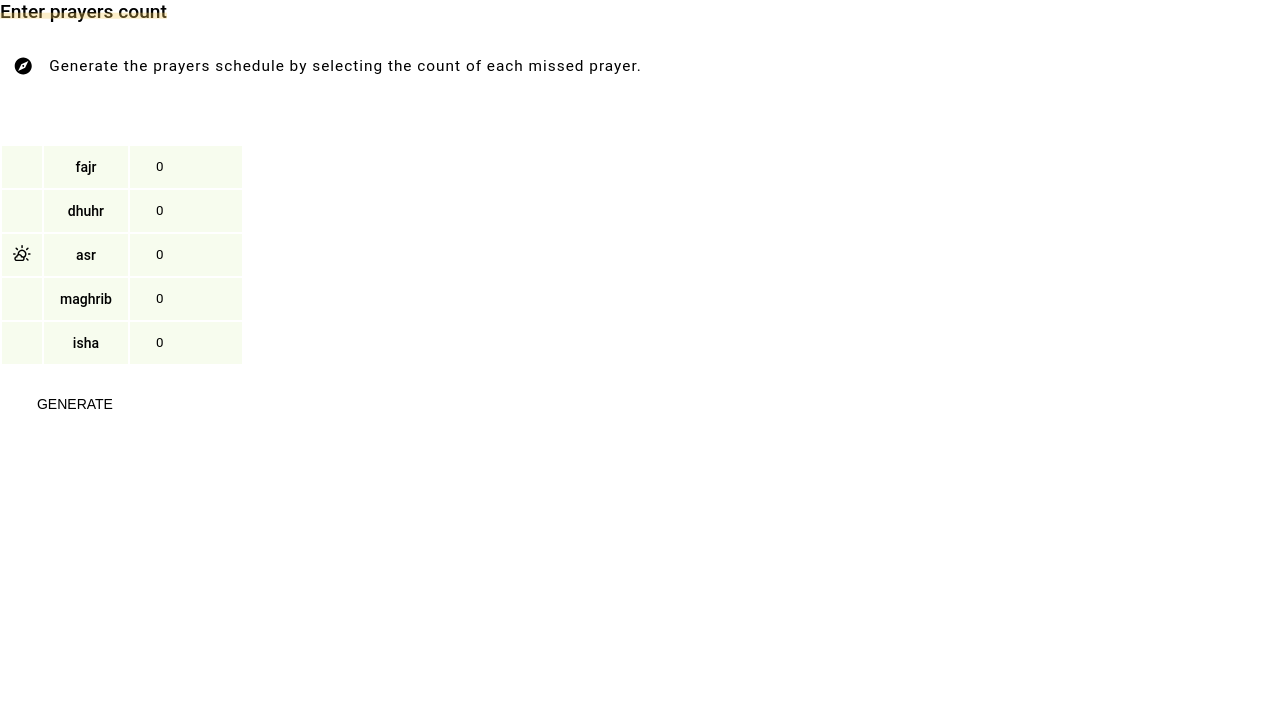
Create schedule by prayers count › Should show loading on form submit
Type "2" into the number field with test id "prayer-fajr".
click(186, 167); type("2")  # box [146,154,226,180]
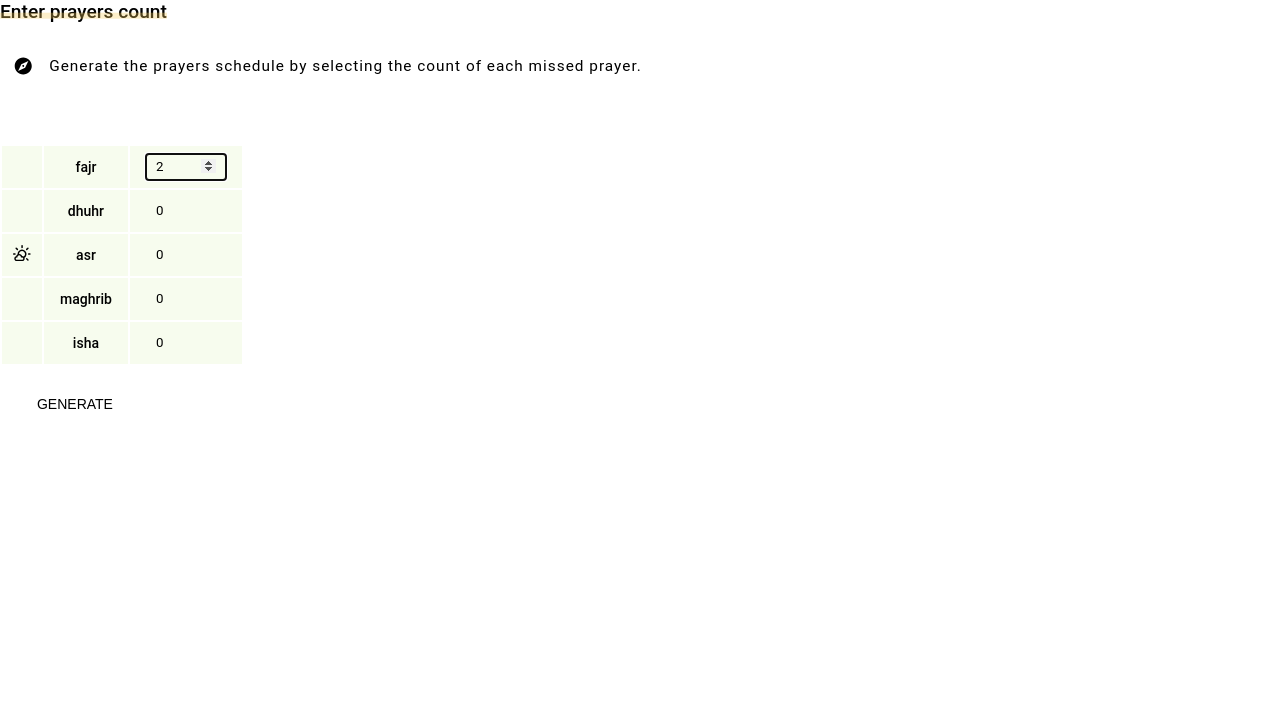
Click the button with test id "generate-form-submit".
click(75, 404)  # box [0,386,150,422]
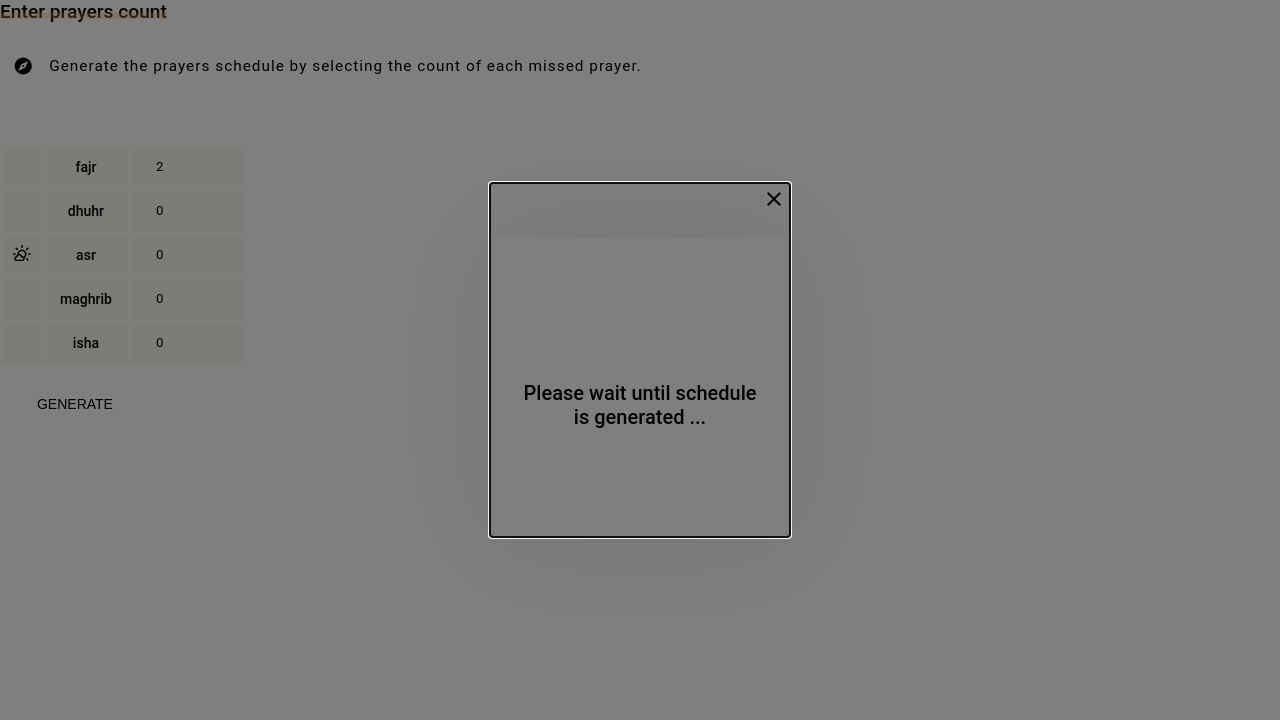
expect the element with test id "schedule-loading" is shown: met, box [514,313,766,461]
